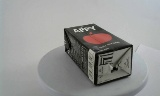appy: (58, 23, 124, 87)
